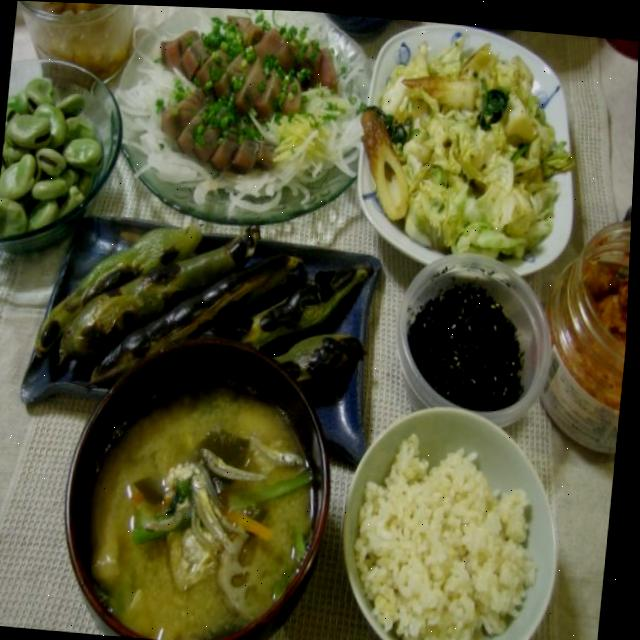蔬菜料理: (375, 28, 565, 259)
